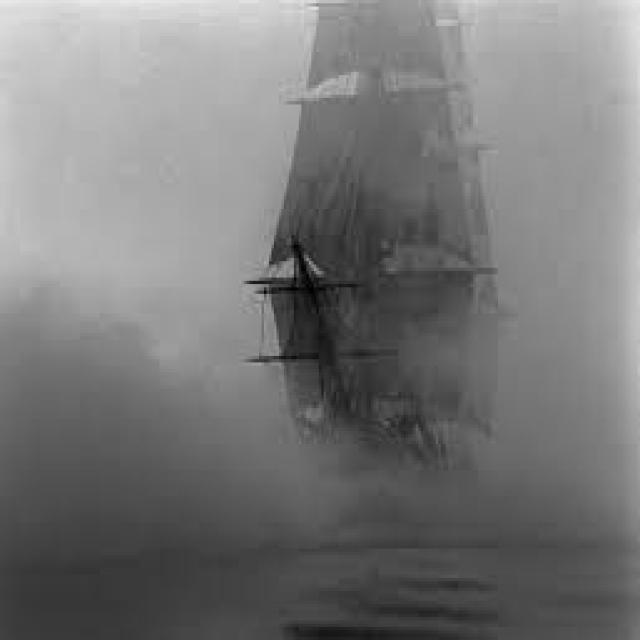fishing boat: (240, 14, 512, 560)
